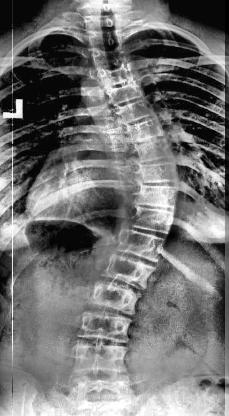Vertebrae: (58, 341, 140, 377), (83, 283, 146, 317), (74, 312, 139, 344), (120, 160, 180, 190), (120, 207, 178, 237), (124, 184, 182, 212), (119, 138, 176, 166), (102, 258, 158, 286), (114, 234, 166, 264), (106, 100, 160, 126), (115, 118, 169, 142), (101, 82, 151, 106), (98, 66, 142, 86), (90, 46, 132, 66), (90, 32, 130, 50)
